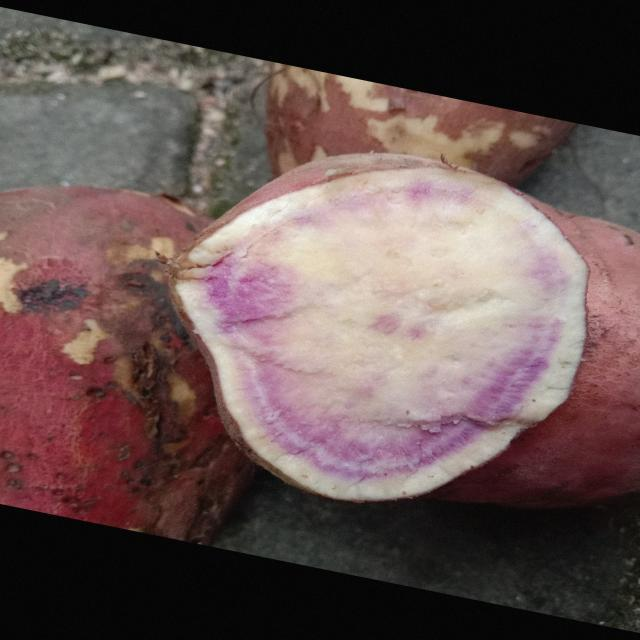Healthy Sweet Potato: (173, 169, 587, 500)
